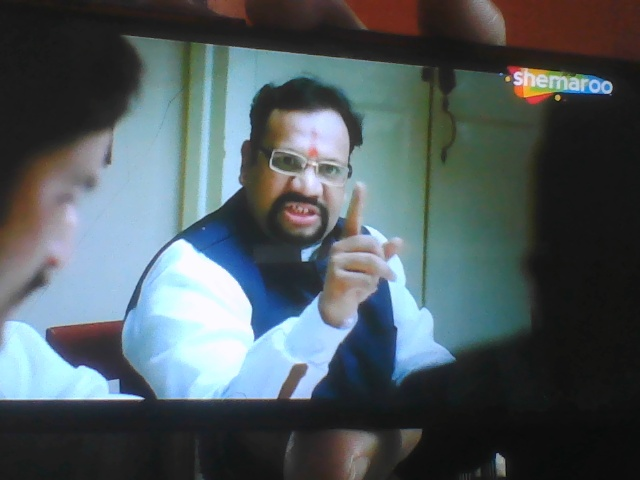fake: (222, 65, 361, 262)
